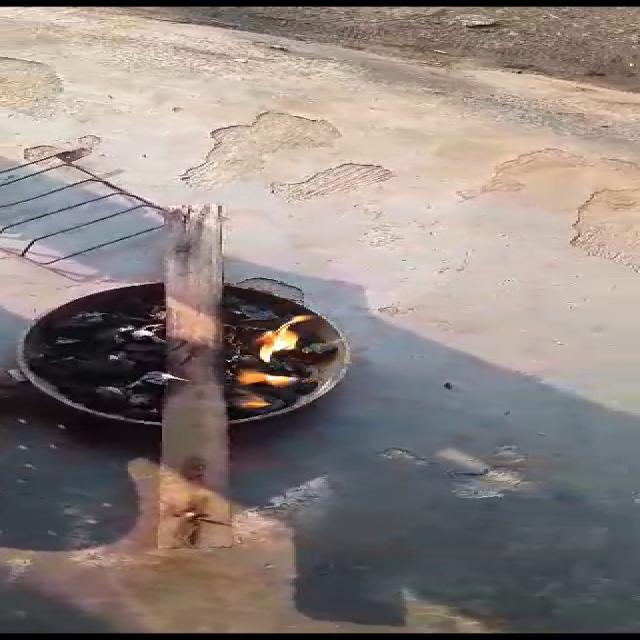Fire: (228, 306, 317, 418)
